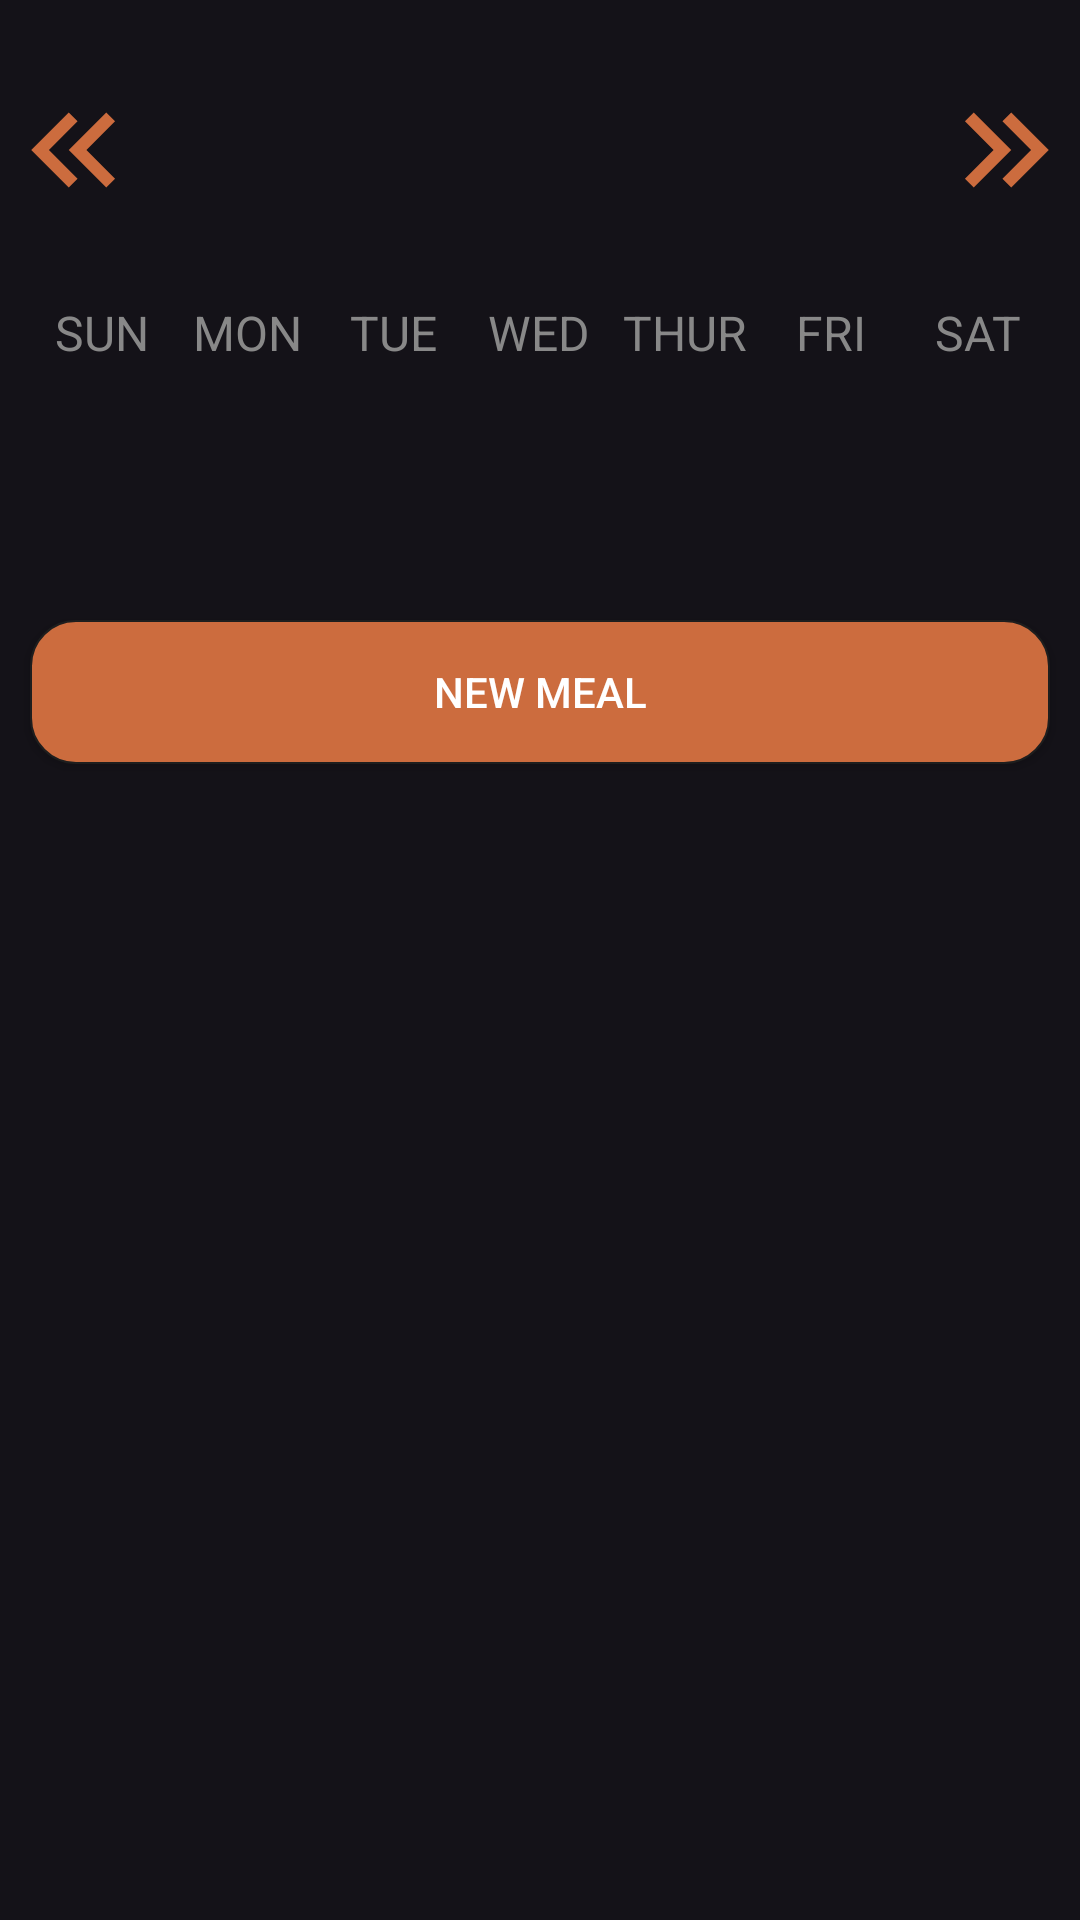

Point at icon controls on the screen. Image size 1080w x 1920h, points as [x,y].
chevron double left: [73,150]
chevron double right: [1007,150]
